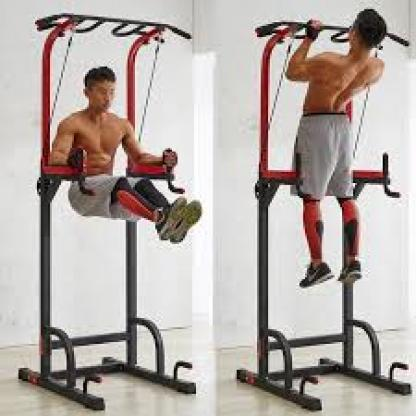chinning dipping: (16, 11, 202, 411), (239, 7, 411, 412)
